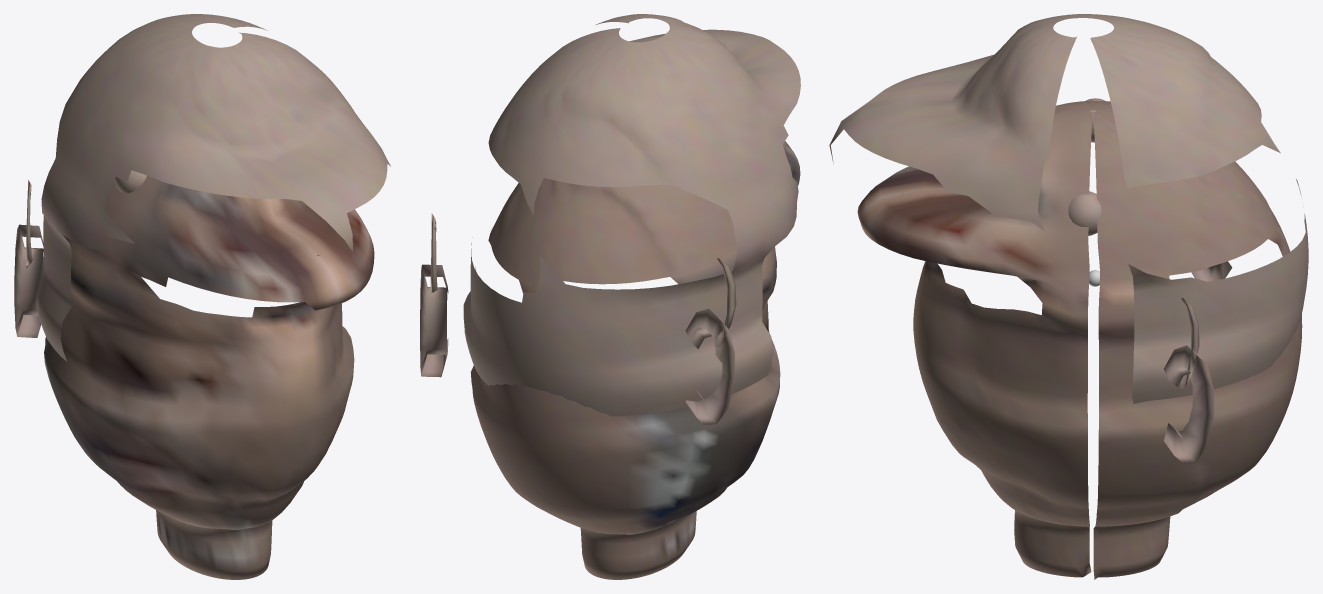
File: avatar_v2_cd213883.glb
The picture shows the model from 3 angles, left to right: view 1: azimuth 30°, elevation 25°; view 2: azimuth 150°, elevation 25°; view 3: azimuth 270°, elevation 25°; orthographic projection.
Parts seen in each view (by area): view 1: world; view 2: world; view 3: world.
Boxes of the visible parts, x1=… form: world: x1=14, y1=14, x2=390, y2=579; world: x1=420, y1=14, x2=800, y2=579; world: x1=829, y1=14, x2=1308, y2=579.
Bounding box in the file's own units: 0.1037 × 0.1602 × 0.131.
